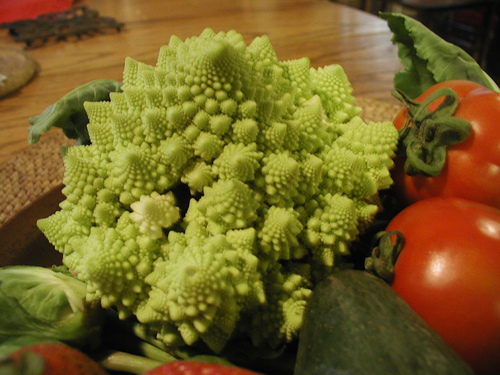cauliflower: (36, 29, 398, 359)
